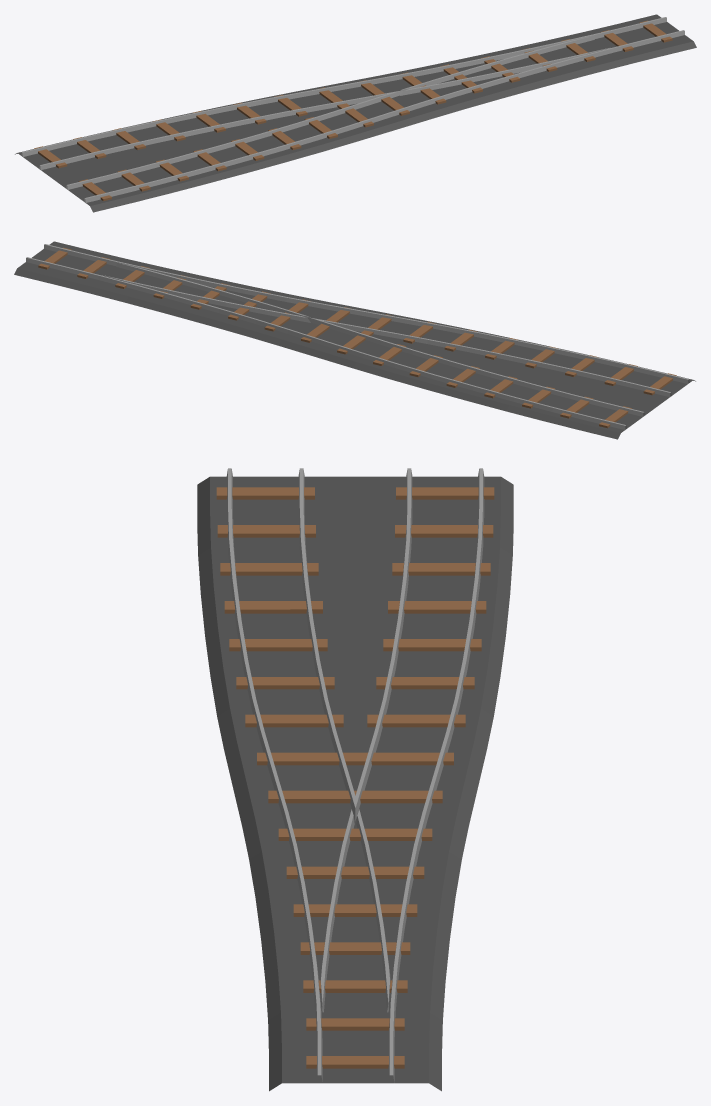
Rendered from 1-2_split_large.fbx.
3 views of the same model, one above another, from view 1: azimuth 30°, elevation 25°; view 2: azimuth 150°, elevation 25°; view 3: azimuth 270°, elevation 25° (orthographic). The views are drawn at different scales.
Visible parts, largest first — view 1: 1-2_split_large; view 2: 1-2_split_large; view 3: 1-2_split_large.
Part boxes in pixels (<box>): 1-2_split_large: <box>15,14,696,212</box>; 1-2_split_large: <box>14,241,695,439</box>; 1-2_split_large: <box>197,468,513,1091</box>.
Size of the model in its own units: 16 by 0.2 by 3.53.
